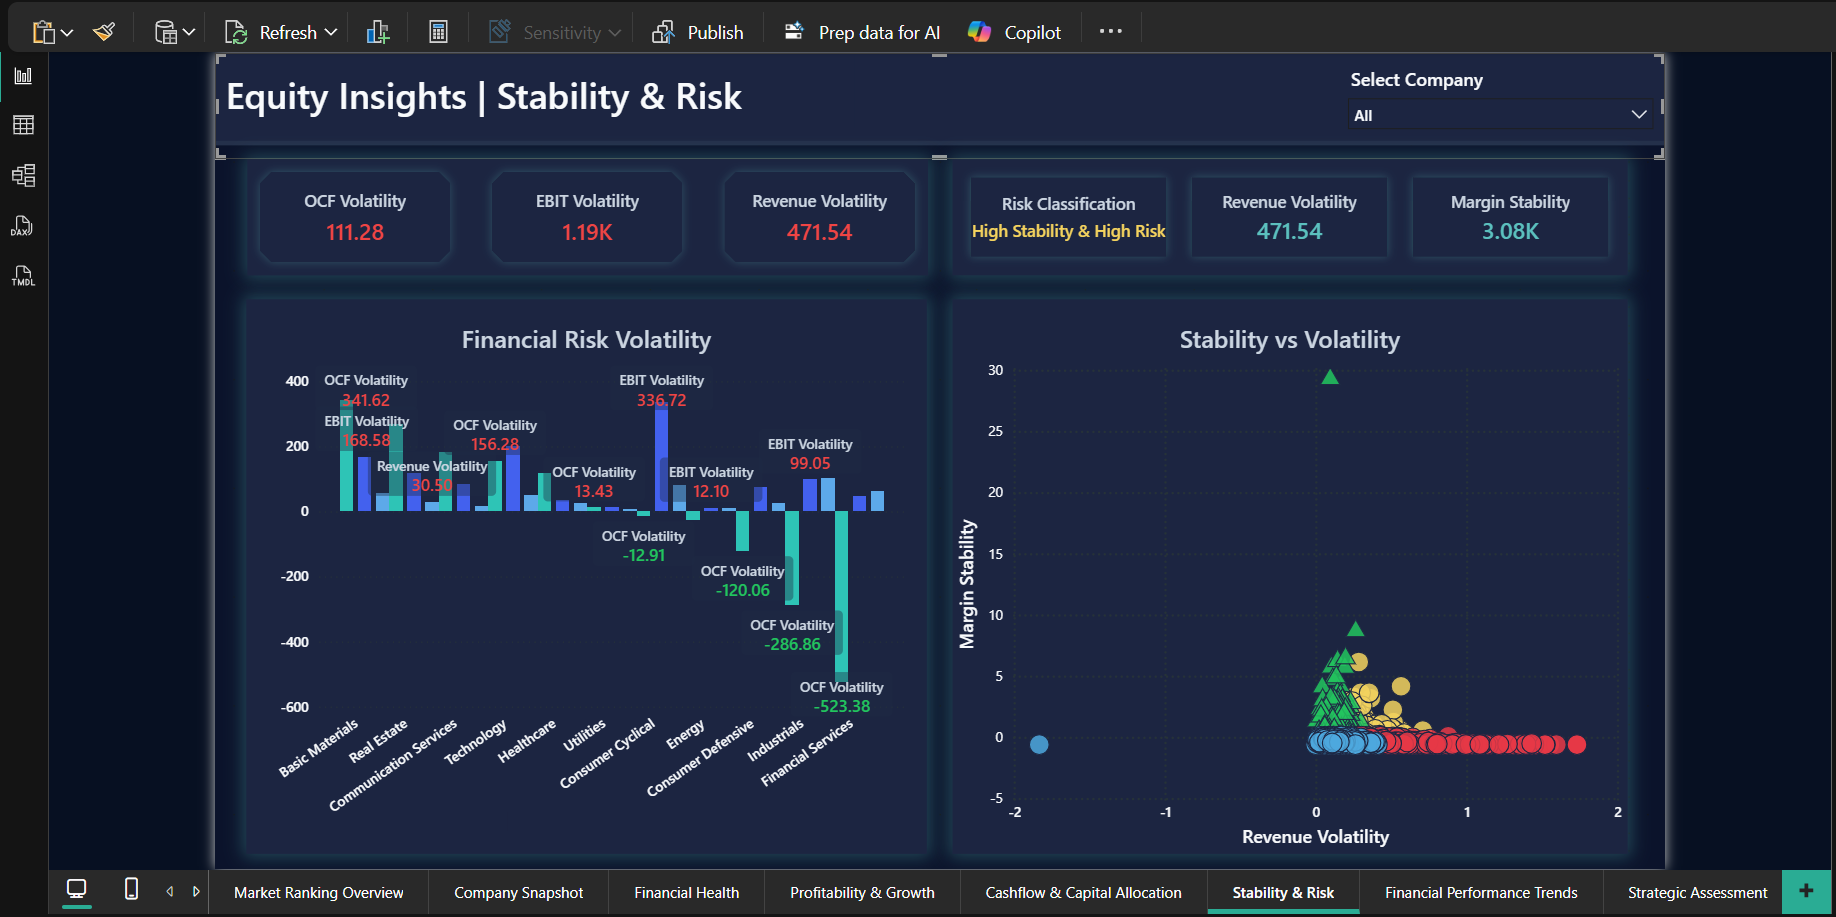

What the dashboard file says about the page in this screenshot:
{"tool":"powerbi","page":{"name":"Stability & Risk","canvas":[1280,720],"ordinal":5},"visuals":[{"type":"shape","box":[0,0,1280,80],"z":0,"group":"g2"},{"type":"clusteredColumnChart","title":"Financial Risk Volatility","fields":{"Category":["gold_equity_derivedmetrics.sector"],"Y":["Sum(gold_equity_derivedmetrics.ocf_volatility)","Sum(gold_equity_derivedmetrics.ebit_volatility)","Sum(gold_equity_derivedmetrics.revenue_volatility)"]},"box":[28,217.8,600.9,489.5],"z":0},{"type":"textbox","box":[4,0,560,80],"z":1000,"group":"g2"},{"type":"group","id":"g1","title":"Group 1","box":[651.4,217.6,596.1,489.5],"z":1000},{"type":"group","id":"g2","title":"Group 1","box":[0,0,1280,93.3],"z":2000},{"type":"slicer","fields":{"Values":["gold_equity_basemetrics.company_name"]},"box":[990,0,290,80],"z":2000,"group":"g2"},{"type":"scatterChart","title":"Stability vs Volatility","fields":{"X":["Sum(gold_equity_derivedmetrics.revenue_volatility)"],"Category":["gold_equity_derivedmetrics.symbol"],"Y":["Sum(gold_equity_derivedmetrics.margin_stability_zscore)"],"Series":["gold_equity_derivedmetrics.risk_classification"]},"box":[651.4,217.6,596.1,489.5],"z":2000,"group":"g1"},{"type":"cardVisual","fields":{"Data":["Sum(gold_equity_derivedmetrics.ocf_volatility)","Sum(gold_equity_derivedmetrics.ebit_volatility)","Sum(gold_equity_derivedmetrics.revenue_volatility)"]},"box":[28.3,93.5,600.6,102.2],"z":3000},{"type":"shape","box":[0,66.7,1280,26.7],"z":4000,"group":"g2"},{"type":"cardVisual","fields":{"Data":["Min(gold_equity_derivedmetrics.risk_classification)","Sum(gold_equity_derivedmetrics.revenue_volatility)","Max(gold_equity_derivedmetrics.margin_stability)"]},"box":[651.1,93.5,595.7,102.2],"z":4000},{"type":"shape","box":[258.5,669.5,161.2,17.2],"z":5000}]}

Visuals, with their boxes on the page's 1280x720 design canvas (x1, y1, x2, y2). These are canvas units, not pixel positions in the 1836x917 screenshot, which may show the page scaled, cropped or inside an application window:
shape: 0 0 1280 80
"Financial Risk Volatility" clusteredColumnChart: 28 218 629 707
textbox: 4 0 564 80
"Group 1" group: 651 218 1248 707
"Group 1" group: 0 0 1280 93
slicer - gold_equity_basemetrics.company_name: 990 0 1280 80
"Stability vs Volatility" scatterChart: 651 218 1248 707
cardVisual - Sum(gold_equity_derivedmetrics.ocf_volatility) x Sum(gold_equity_derivedmetrics.ebit_volatility): 28 94 629 196
shape: 0 67 1280 93
cardVisual - Min(gold_equity_derivedmetrics.risk_classification) x Sum(gold_equity_derivedmetrics.revenue_volatility): 651 94 1247 196
shape: 258 670 420 687
